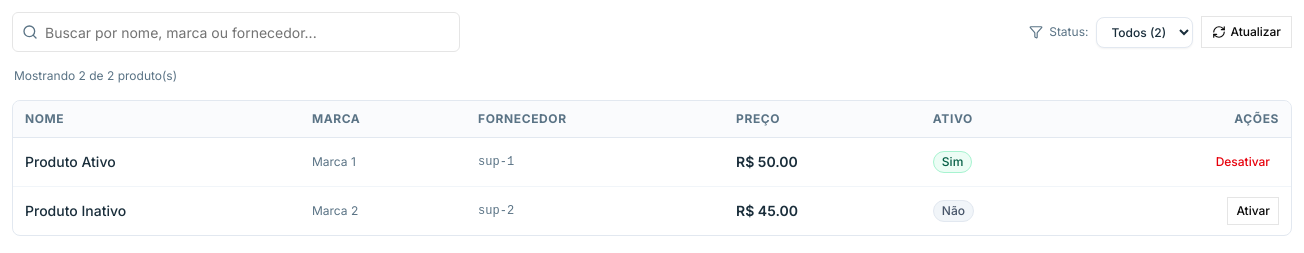
AdminProductsTab › filtra produtos por status (ativos ou inativos)
Expected: the text "Produto Ativo" is shown, [25,153,116,170]
Select "Inativos" in the dropdown named "filtrar por status" at [1145, 32], box [1096,16,1193,48]
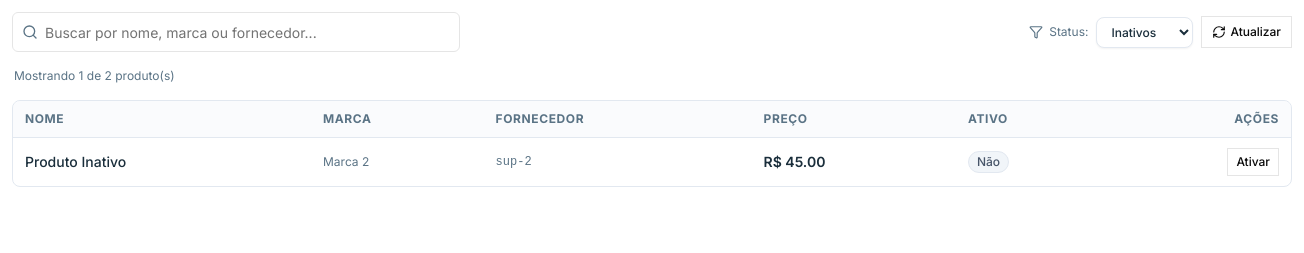
Expected: the text "Produto Inativo" is shown, [25,153,126,170]
Expected: the text "Produto Ativo" is gone
